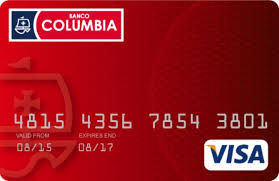tarjeta: (1, 1, 279, 181)
